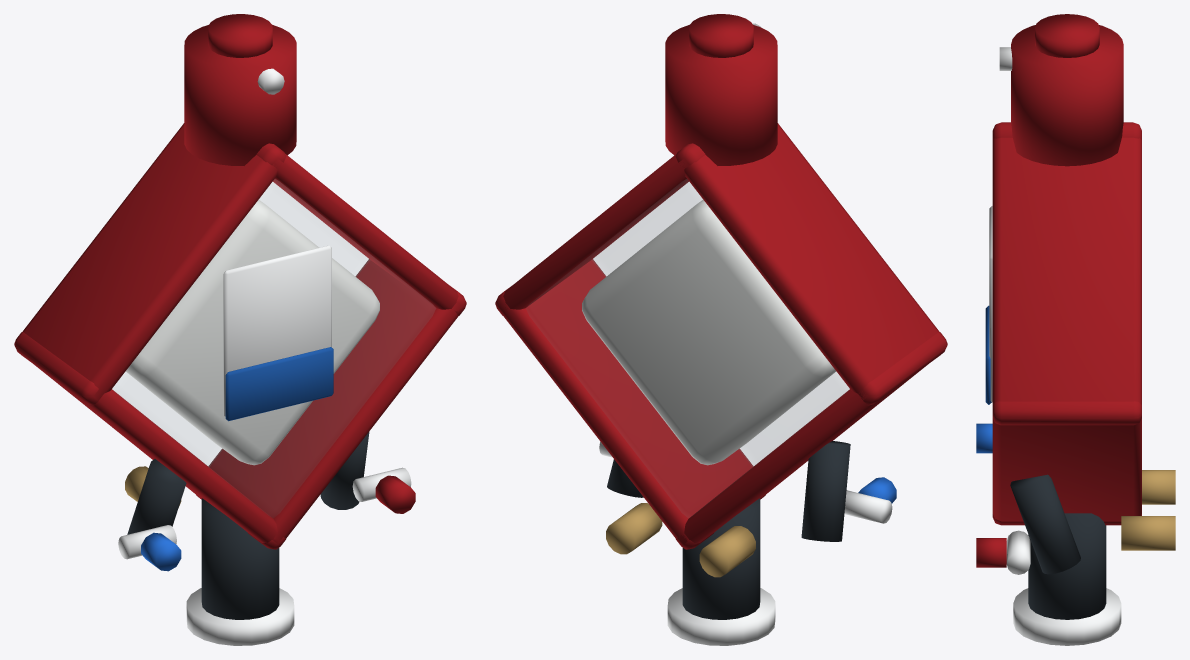
The model's file is oxygenator.glb.
3 renders of one model, left to right at view 1: azimuth 30°, elevation 25°; view 2: azimuth 150°, elevation 25°; view 3: azimuth 270°, elevation 25°, orthographic.
Visible parts, largest first — view 1: membrane_oxygenator; view 2: membrane_oxygenator; view 3: membrane_oxygenator.
Boxes of the visible parts, x1=… form: membrane_oxygenator: x1=14, y1=14, x2=466, y2=645; membrane_oxygenator: x1=495, y1=14, x2=947, y2=645; membrane_oxygenator: x1=976, y1=14, x2=1175, y2=645.
Bounding box in the file's own units: 0.4099 × 0.607 × 0.184.
